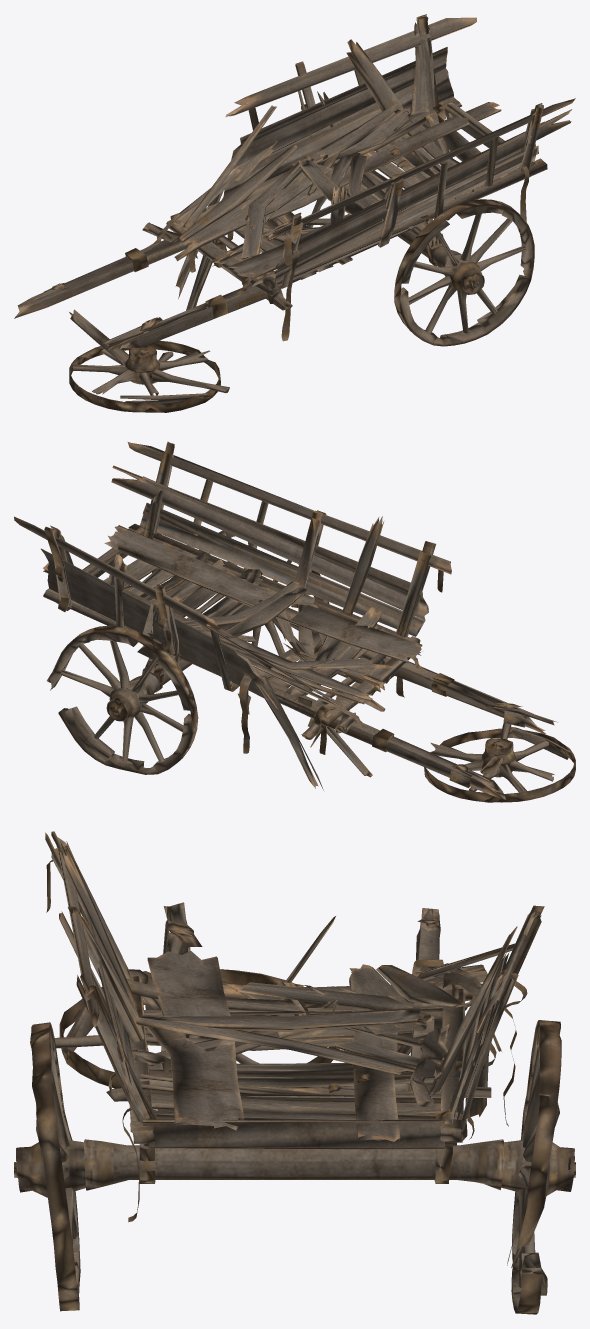
The model's file is des-cart-rubble.fbx.
The picture shows the model from 3 angles, top to bottom: view 1: azimuth 30°, elevation 25°; view 2: azimuth 150°, elevation 25°; view 3: azimuth 270°, elevation 25°; orthographic projection. The views are drawn at different scales.
Parts seen in each view (by area): view 1: Mesh_0; view 2: Mesh_0; view 3: Mesh_0.
Boxes of the visible parts, x1=… form: Mesh_0: x1=14, y1=14, x2=575, y2=412; Mesh_0: x1=14, y1=441, x2=575, y2=802; Mesh_0: x1=14, y1=831, x2=575, y2=1314.
Bounding box in the file's own units: 95.36 × 41.7 × 53.56.
Materials: 1 (1 with a texture image).
